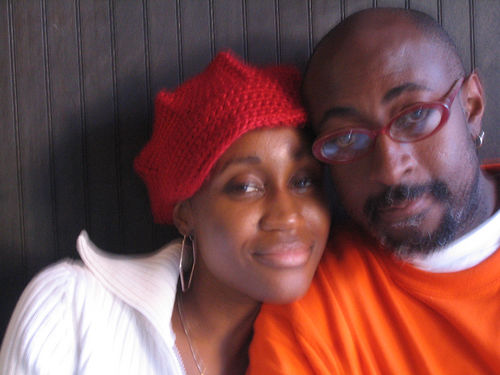without_mask: (310, 27, 499, 251), (163, 86, 343, 305)
